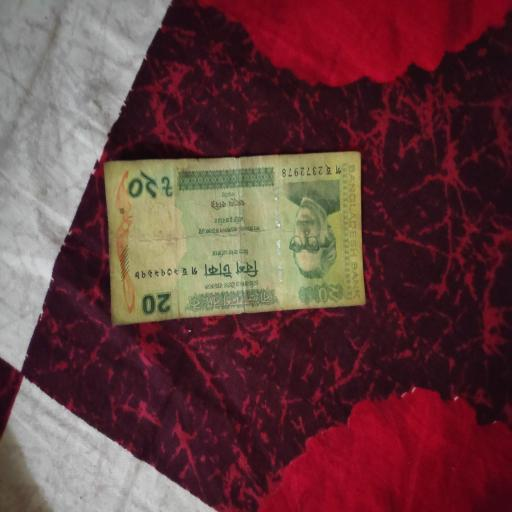20taka: (102, 152, 370, 324)
